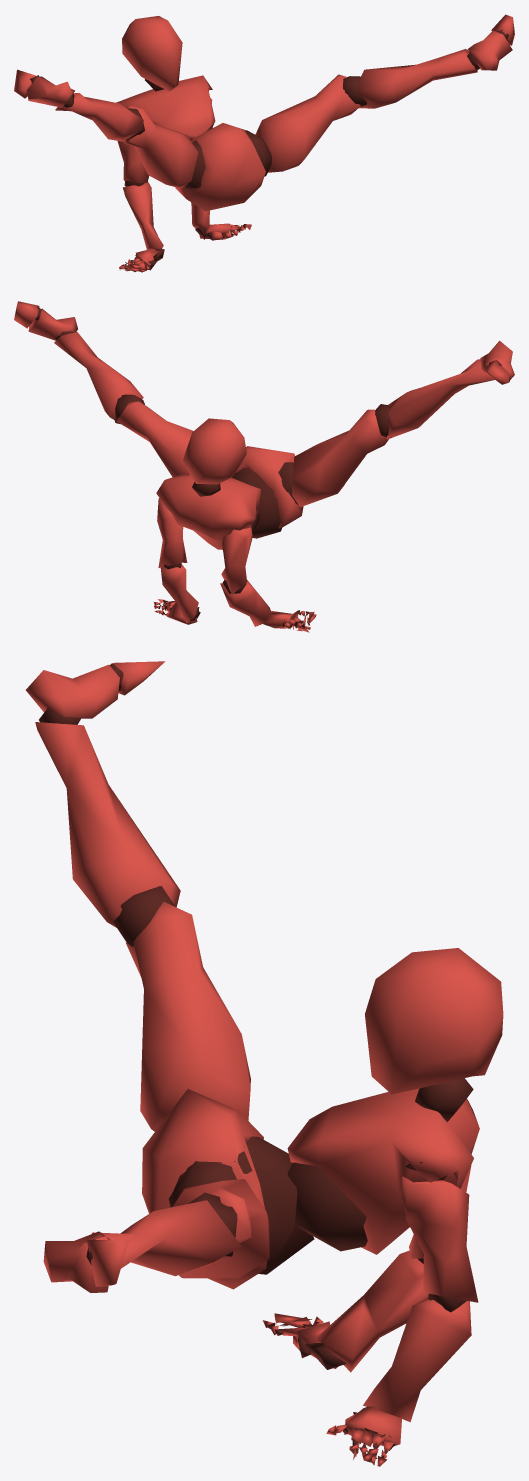
3 views of the same model, one above another, from view 1: azimuth 30°, elevation 25°; view 2: azimuth 150°, elevation 25°; view 3: azimuth 270°, elevation 25° (orthographic). The views are drawn at different scales.
Parts seen in each view (by area): view 1: Beta_Surface; view 2: Beta_Surface; view 3: Beta_Surface.
Part boxes in pixels (bbox=[...]): Beta_Surface: bbox=[14, 14, 514, 272]; Beta_Surface: bbox=[14, 301, 514, 632]; Beta_Surface: bbox=[26, 661, 503, 1466].
Bounding box in the file's own units: 20.88 × 10.96 × 8.7.
